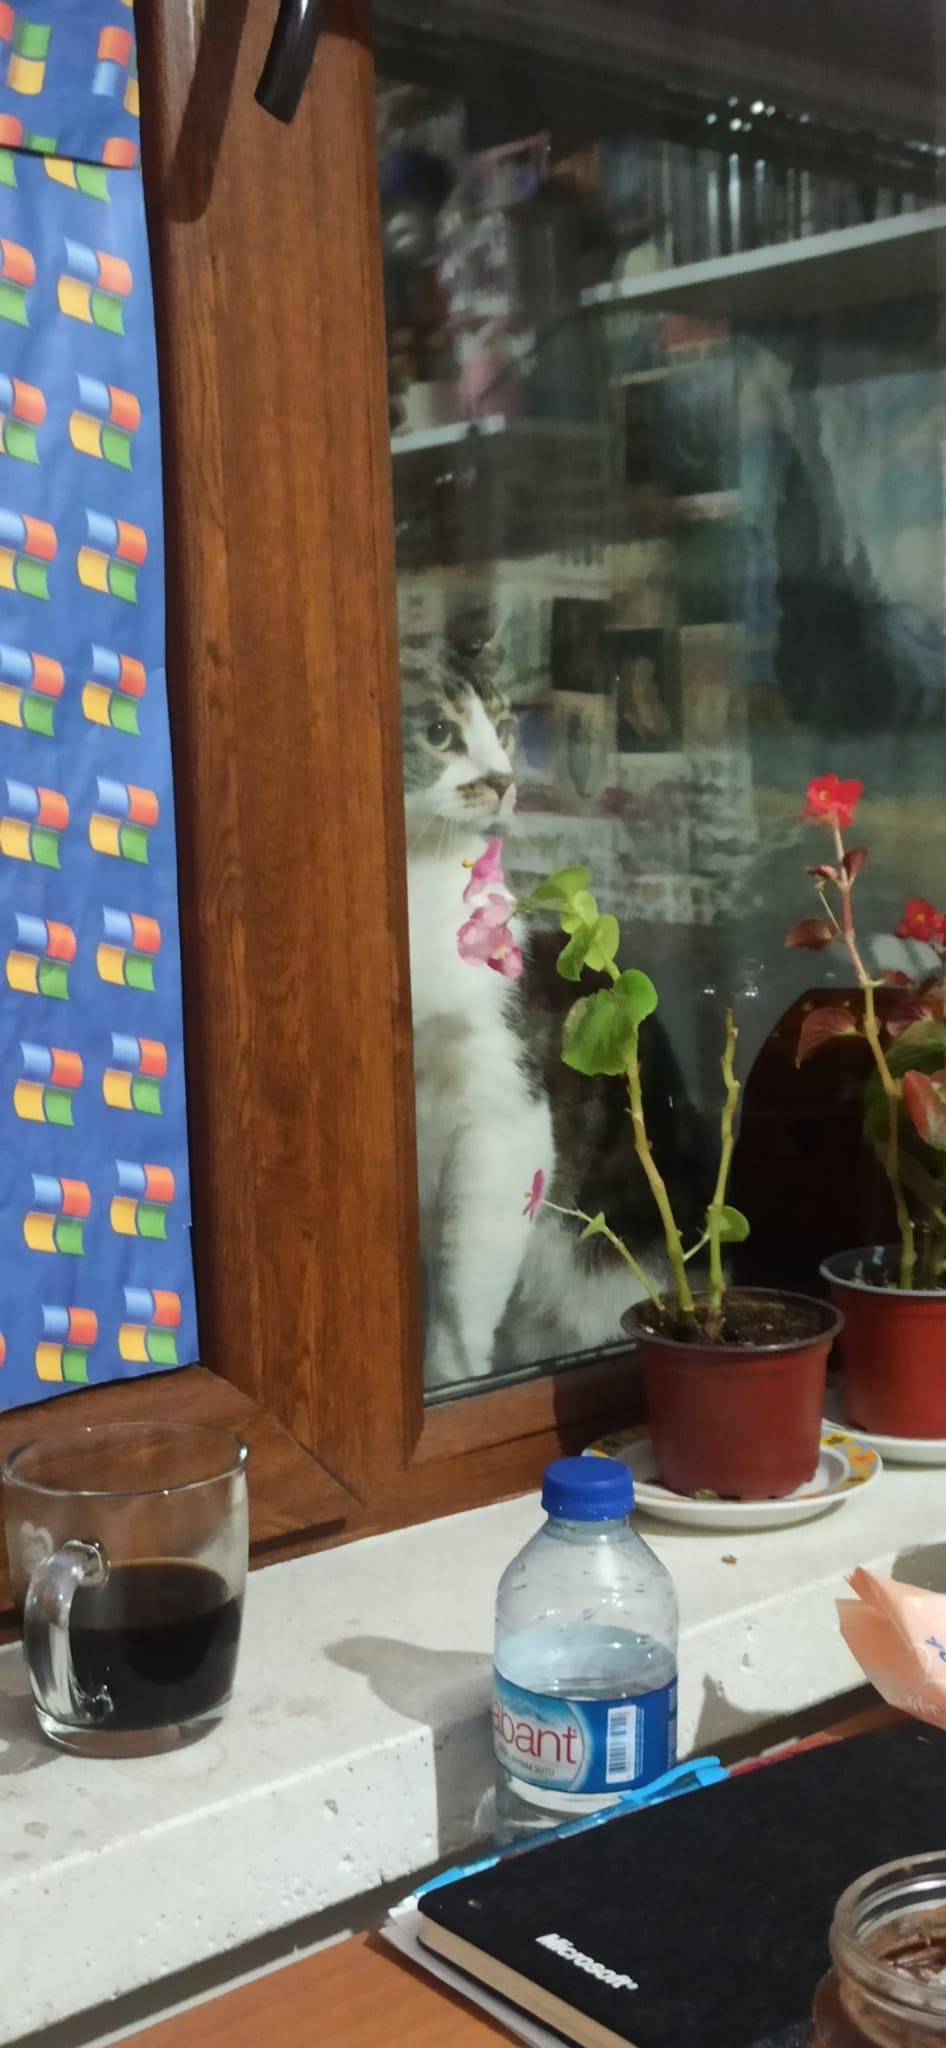kedo: (397, 640, 630, 1373)
